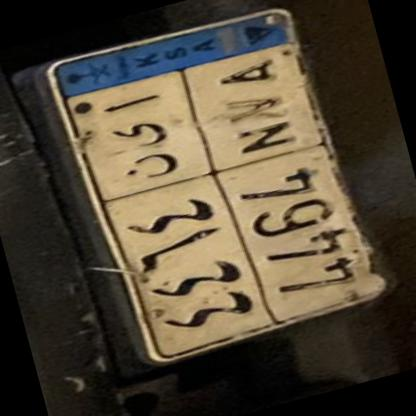english: (184, 7, 387, 345)
